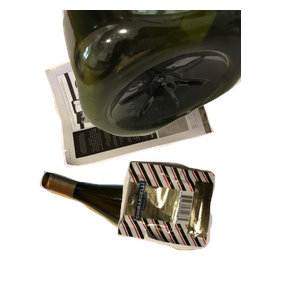glass: (37, 168, 242, 300)
paper: (42, 21, 249, 181)
plastic: (60, 10, 300, 139)
trash: (115, 158, 300, 300)
